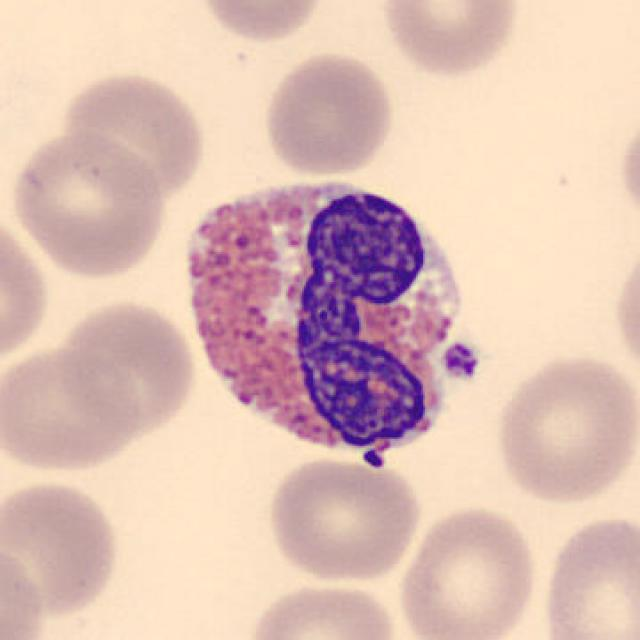Eosinophil: (171, 158, 480, 486)
Platelets: (438, 340, 483, 383)
RBC: (7, 127, 169, 280), (491, 349, 638, 508), (52, 296, 199, 446), (263, 453, 423, 585), (394, 500, 542, 640), (57, 67, 208, 201), (2, 338, 144, 478), (0, 474, 124, 620), (259, 48, 396, 178), (536, 509, 638, 640), (375, 0, 522, 79), (242, 578, 402, 640), (0, 206, 53, 373), (194, 0, 329, 46), (0, 539, 48, 640), (610, 238, 640, 384), (615, 108, 640, 231)
